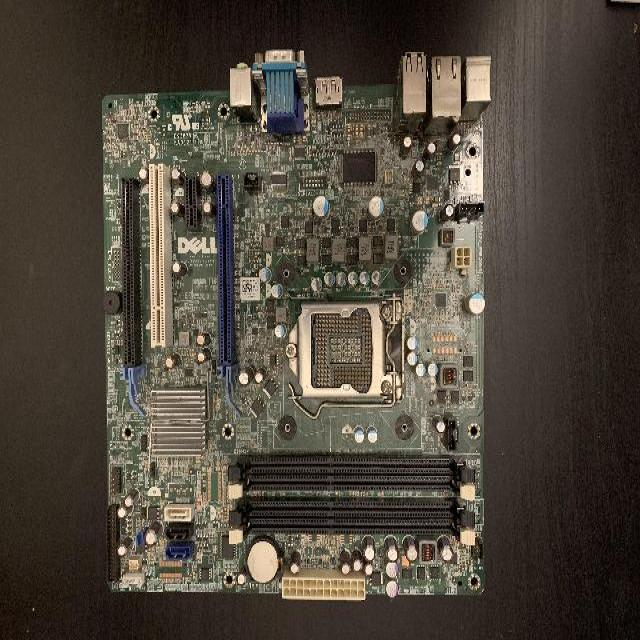Mainboard: (103, 50, 491, 597)
